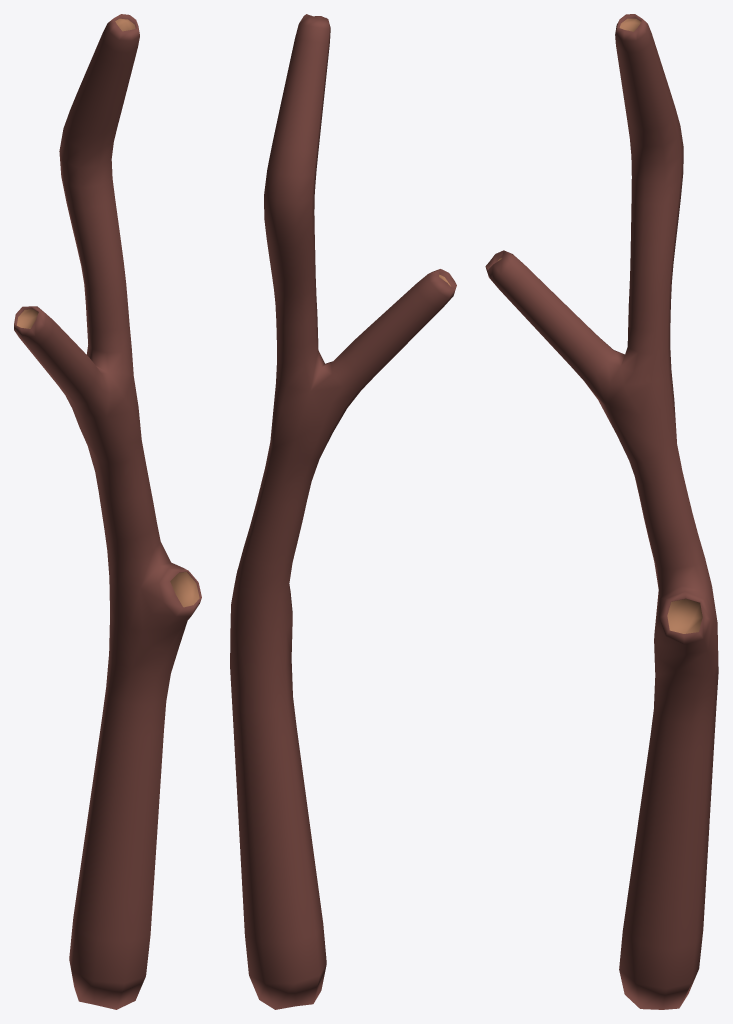
Rendered from stick.fbx.
The picture shows the model from 3 angles, left to right: view 1: azimuth 30°, elevation 25°; view 2: azimuth 150°, elevation 25°; view 3: azimuth 330°, elevation 25°; orthographic projection. The views are drawn at different scales.
Parts seen in each view (by area): view 1: Plan; view 2: Plan; view 3: Plan.
Boxes of the visible parts, <box> form: Plan: <box>14,14,201,1009</box>; Plan: <box>230,14,456,1009</box>; Plan: <box>485,14,718,1009</box>.
Bounding box in the file's own units: 160 × 97.84 × 760.
